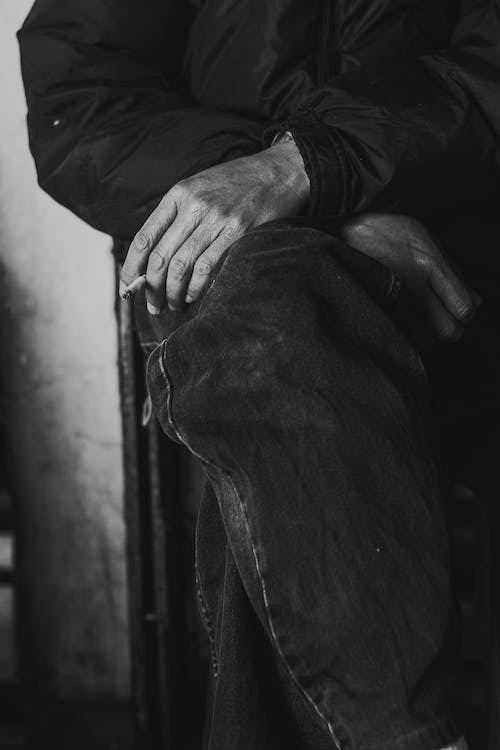cigarette: (118, 270, 148, 306)
